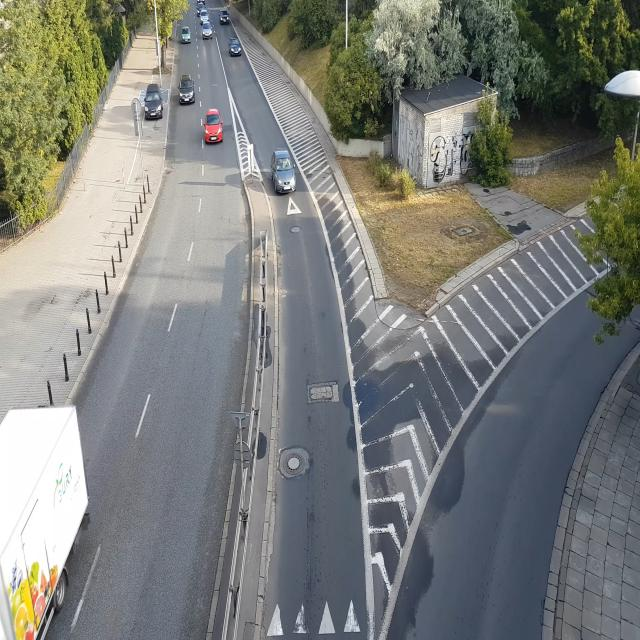car: (271, 149, 297, 195), (202, 111, 223, 144), (144, 90, 164, 120), (180, 83, 197, 105), (229, 41, 243, 58), (181, 26, 193, 43), (200, 24, 212, 38), (200, 9, 210, 23), (221, 12, 231, 24)
truck: (0, 401, 102, 640)
